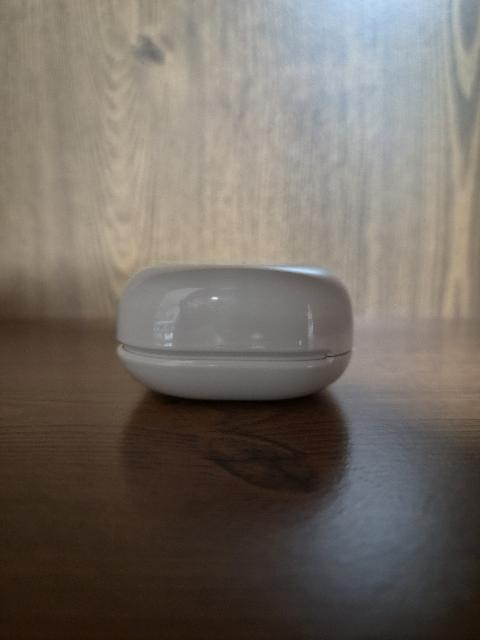earphone_case: (116, 264, 353, 400)
